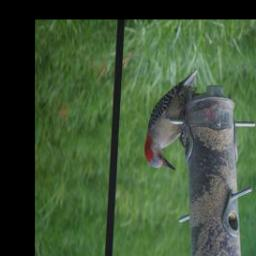Woodpecker: (145, 68, 200, 172)
